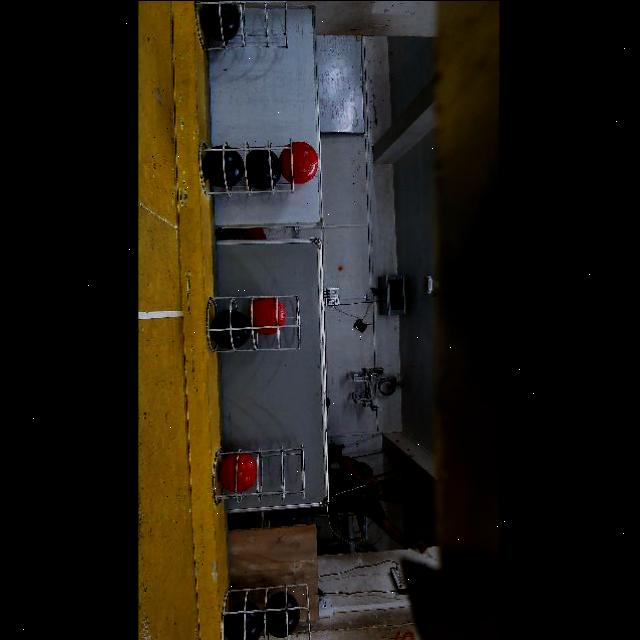P: (262, 592, 299, 637), (204, 145, 243, 185), (224, 601, 264, 640), (199, 2, 237, 40), (245, 149, 281, 189), (212, 310, 250, 347)
R: (278, 141, 318, 184), (217, 451, 256, 492), (252, 297, 285, 334)
S: (206, 294, 304, 360), (198, 139, 292, 197), (203, 0, 299, 52)
